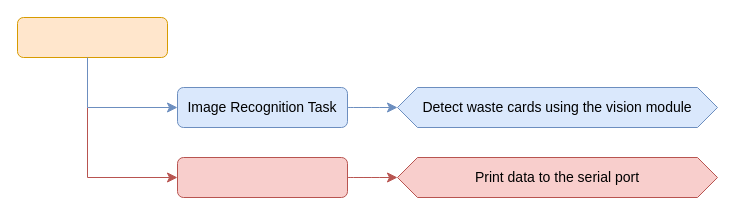
This 735x215 diagram has some shape labels left out. Here are the shapes that lost their labels. From the top down, the box of each, then its label:
(16, 16, 168, 58): Image Classification
(176, 156, 348, 198): Serial Print Task
